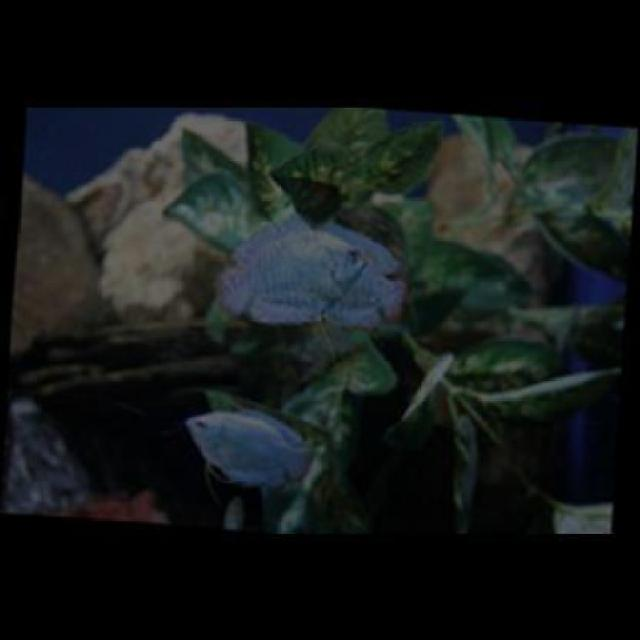Gourami: (219, 212, 363, 326), (184, 400, 318, 489)
